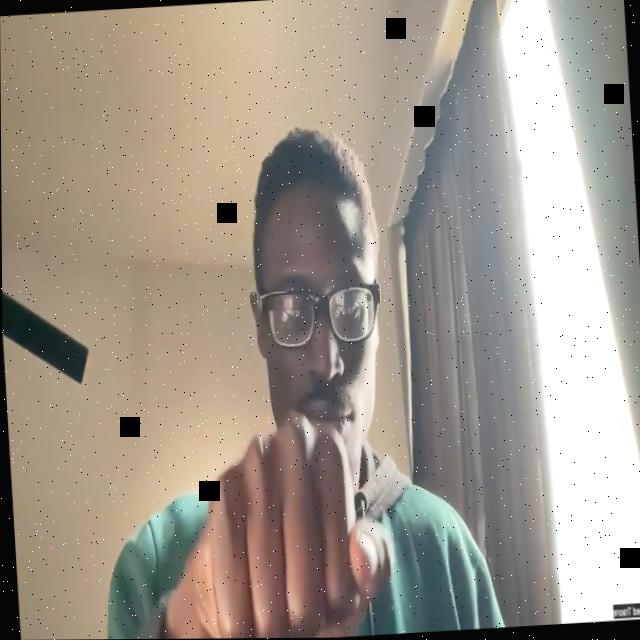Rock: (178, 404, 398, 639)
